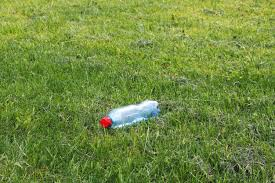plastic_bottle: (99, 98, 161, 133)
